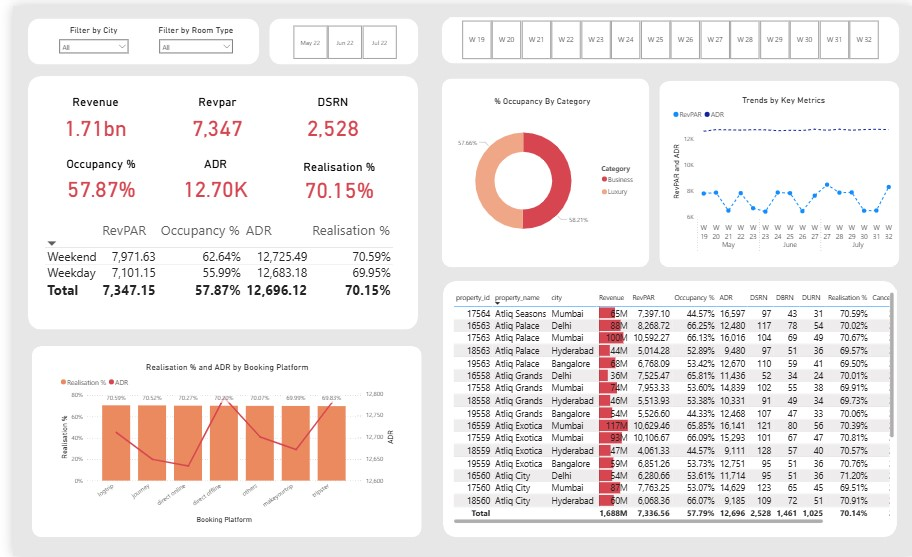

This screenshot's page, from the dashboard's own definition file:
{"tool":"powerbi","page":{"name":"Page 1","canvas":[1800,1100],"ordinal":0},"visuals":[{"type":"shape","box":[29,26,462,92],"z":0},{"type":"slicer","title":"Filter by Room Type","fields":{"Values":["dim_rooms.room_class"]},"box":[283,37,167,69],"z":1000},{"type":"slicer","title":"Filter by City","fields":{"Values":["dim_hotels.city"]},"box":[82,37,158,63],"z":2000},{"type":"shape","box":[512,26,298,92],"z":3000},{"type":"slicer","title":"Filter by Date","fields":{"Values":["dim_date.mmm yy"]},"box":[534,32,256,80],"z":4000},{"type":"shape","box":[857.5,22.5,915,92.5],"z":5000},{"type":"slicer","title":"Filter by Week no.","fields":{"Values":["dim_date.week no"]},"box":[872.5,22.5,882.5,90],"z":6000},{"type":"shape","box":[30,140,780,507.5],"z":7000},{"type":"card","title":"ADR","fields":{"Values":["key_measures.ADR"]},"box":[330,302.5,150,92.5],"z":8000},{"type":"card","title":"Occupancy %","fields":{"Values":["key_measures.Occupancy %"]},"box":[92.5,302.5,167.5,92.5],"z":9000},{"type":"card","title":"DSRN","fields":{"Values":["key_measures.DSRN"]},"box":[565,177.5,150,97.5],"z":10000},{"type":"card","title":"Revpar","fields":{"Values":["key_measures.RevPAR"]},"box":[335,177.5,147.5,97.5],"z":11000},{"type":"card","title":"Realisation %","fields":{"Values":["key_measures.Realisation %"]},"box":[565,307.5,175,87.5],"z":12000},{"type":"card","title":"Revenue","fields":{"Values":["key_measures.Revenue"]},"box":[90,177.5,150,97.5],"z":13000},{"type":"tableEx","fields":{"Values":["dim_date.day_type","key_measures.RevPAR","key_measures.Occupancy %","key_measures.ADR","key_measures.Realisation %"]},"box":[57.5,425,710,192.5],"z":14000},{"type":"shape","box":[37.5,680,780,382.5],"z":15000},{"type":"lineClusteredColumnComboChart","fields":{"Category":["fact_bookings.booking_platform"],"Y":["key_measures.Realisation %"],"Y2":["key_measures.ADR"]},"box":[90,712.5,677.5,327.5],"z":16000},{"type":"shape","box":[857.5,145,415,377.5],"z":17000},{"type":"donutChart","title":"% Occupancy By Category","fields":{"Category":["dim_hotels.category"],"Y":["key_measures.Occupancy %"]},"box":[860,180,397.5,320],"z":18000},{"type":"shape","box":[1292.5,150,480,372.5],"z":19000},{"type":"lineChart","title":"Trends by Key Metrics","fields":{"Category":["dim_date.mmm yy.Variation.Date Hierarchy.Month","dim_date.week no"],"Y":["key_measures.RevPAR","key_measures.ADR"]},"box":[1315,177.5,452.5,322.5],"z":20000},{"type":"shape","box":[860,550,907.5,512.5],"z":21000},{"type":"tableEx","fields":{"Values":["dim_hotels.property_id","dim_hotels.property_name","dim_hotels.city","key_measures.Revenue","key_measures.RevPAR","key_measures.Occupancy %","key_measures.ADR","key_measures.DSRN","key_measures.DBRN","key_measures.DURN","key_measures.Realisation %","key_measures.Cancellation %"]},"box":[875,567.5,892.5,472.5],"z":22000}]}

Visuals, with their boxes in screenshot pixels (x1, y1, x2, y2), scaled from the page's 1800x1100 canvas onto the 912x557 screenshot:
shape: region(15, 13, 249, 60)
"Filter by Room Type" slicer: region(143, 19, 228, 54)
"Filter by City" slicer: region(42, 19, 122, 51)
shape: region(259, 13, 410, 60)
"Filter by Date" slicer: region(271, 16, 400, 57)
shape: region(434, 11, 898, 58)
"Filter by Week no." slicer: region(442, 11, 889, 57)
shape: region(15, 71, 410, 328)
"ADR" card: region(167, 153, 243, 200)
"Occupancy %" card: region(47, 153, 132, 200)
"DSRN" card: region(286, 90, 362, 139)
"Revpar" card: region(170, 90, 244, 139)
"Realisation %" card: region(286, 156, 375, 200)
"Revenue" card: region(46, 90, 122, 139)
tableEx - dim_date.day_type x key_measures.RevPAR: region(29, 215, 389, 313)
shape: region(19, 344, 414, 538)
lineClusteredColumnComboChart - fact_bookings.booking_platform x key_measures.Realisation %: region(46, 361, 389, 527)
shape: region(434, 73, 645, 265)
"% Occupancy By Category" donutChart: region(436, 91, 637, 253)
shape: region(655, 76, 898, 265)
"Trends by Key Metrics" lineChart: region(666, 90, 896, 253)
shape: region(436, 278, 896, 538)
tableEx - dim_hotels.property_id x dim_hotels.property_name: region(443, 287, 896, 527)
